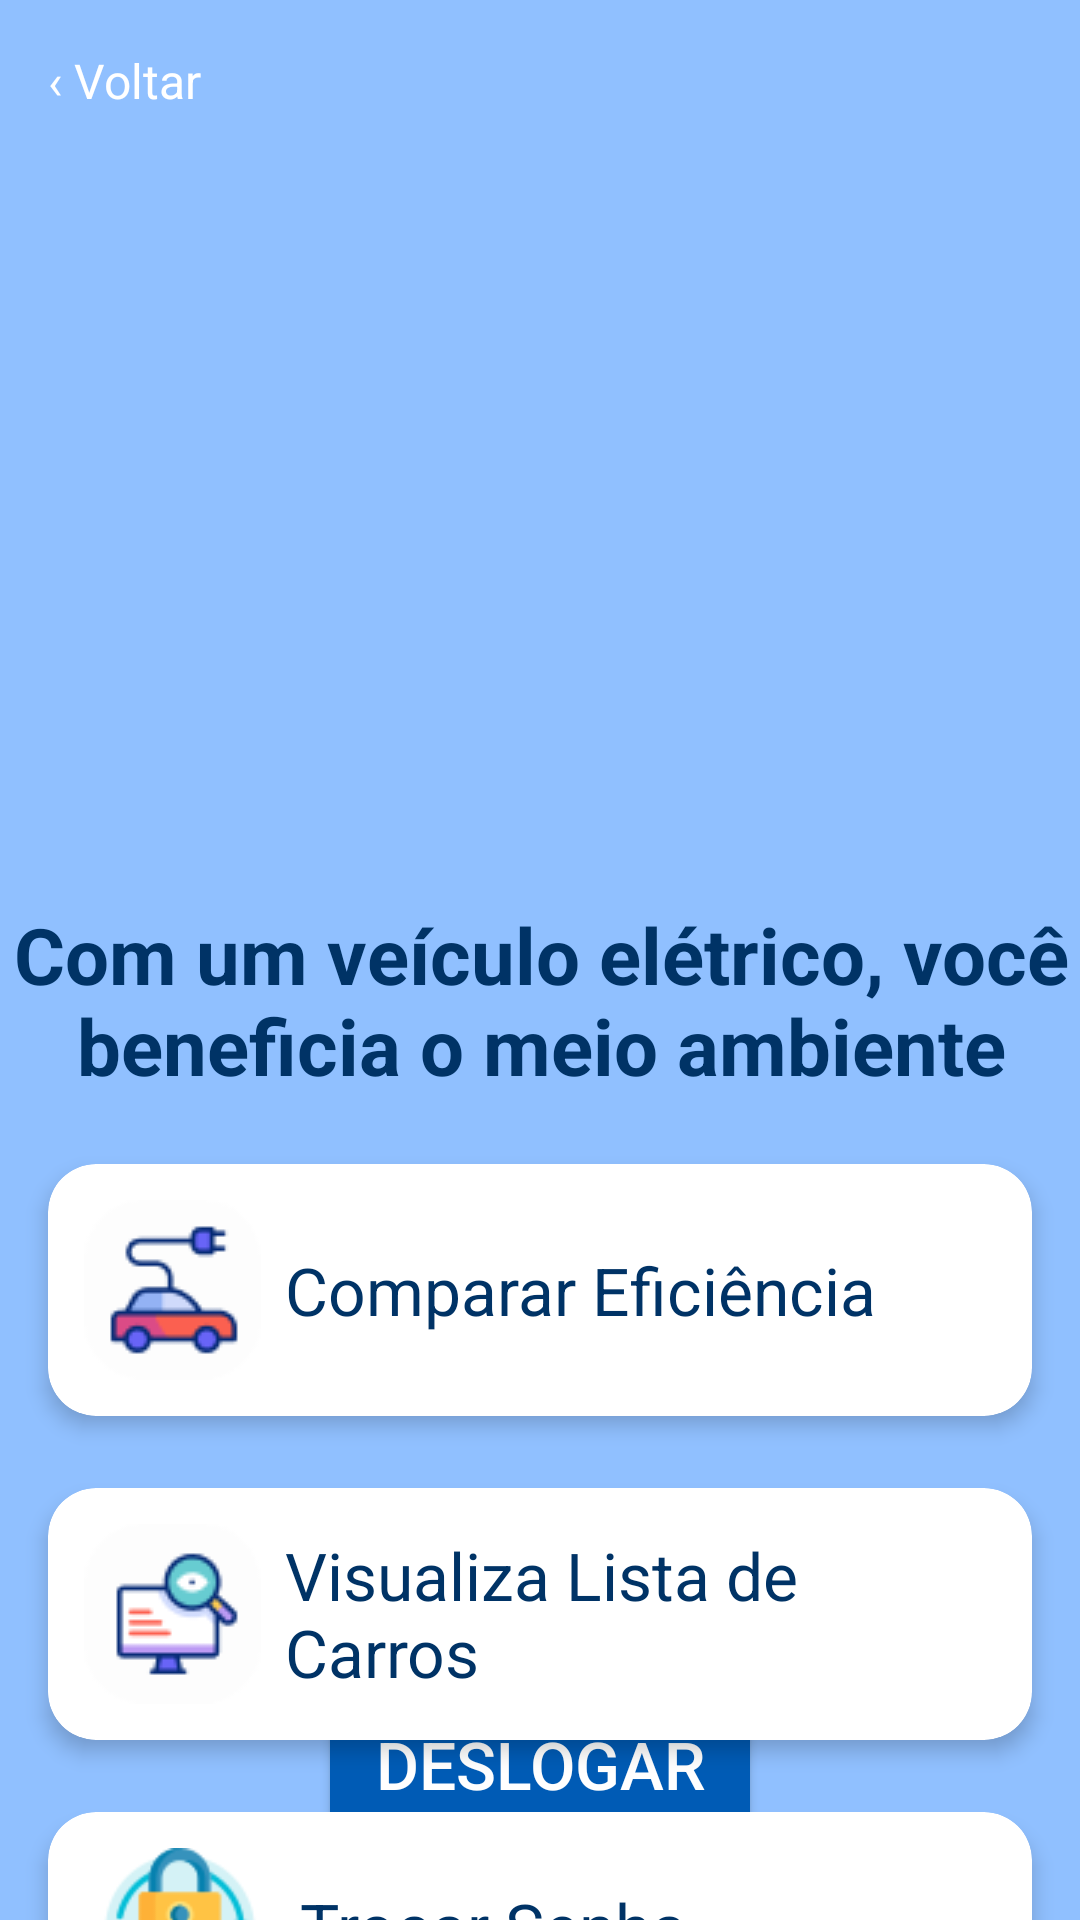

Screen size 1080 x 1920. Icon name, then its center in pixels as (x,y):
view: (177,1614)
